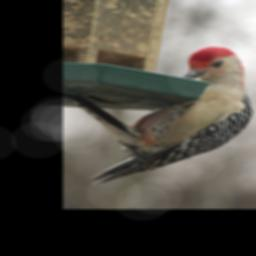Woodpecker: (86, 46, 252, 190)
